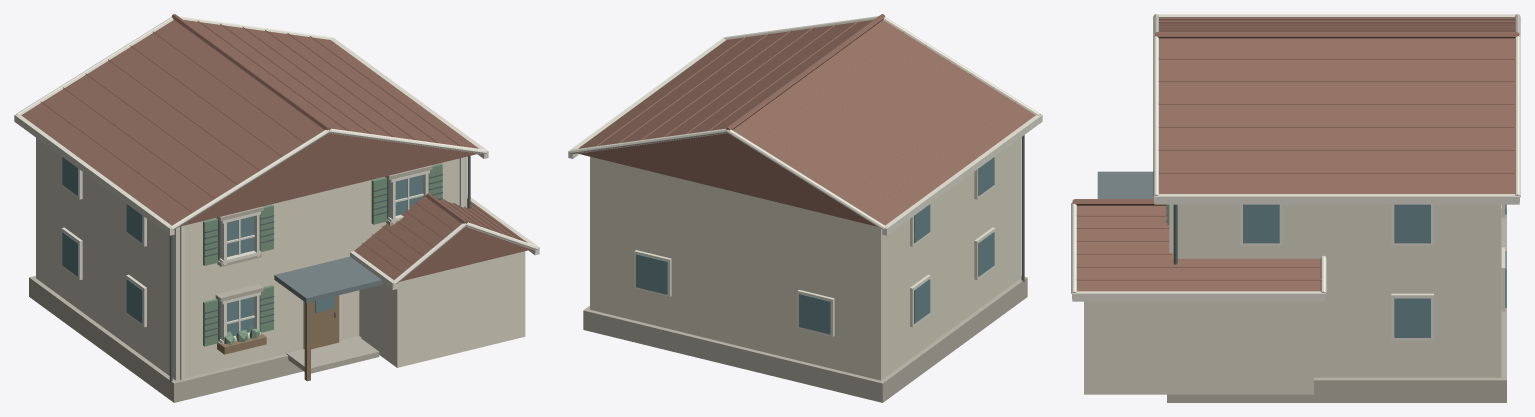
3 views of the same model, side by side, from view 1: azimuth 30°, elevation 25°; view 2: azimuth 150°, elevation 25°; view 3: azimuth 270°, elevation 25° (orthographic). The views are drawn at different scales.
Bounding box in the file's own units: 11.72 × 8.12 × 11.62.
